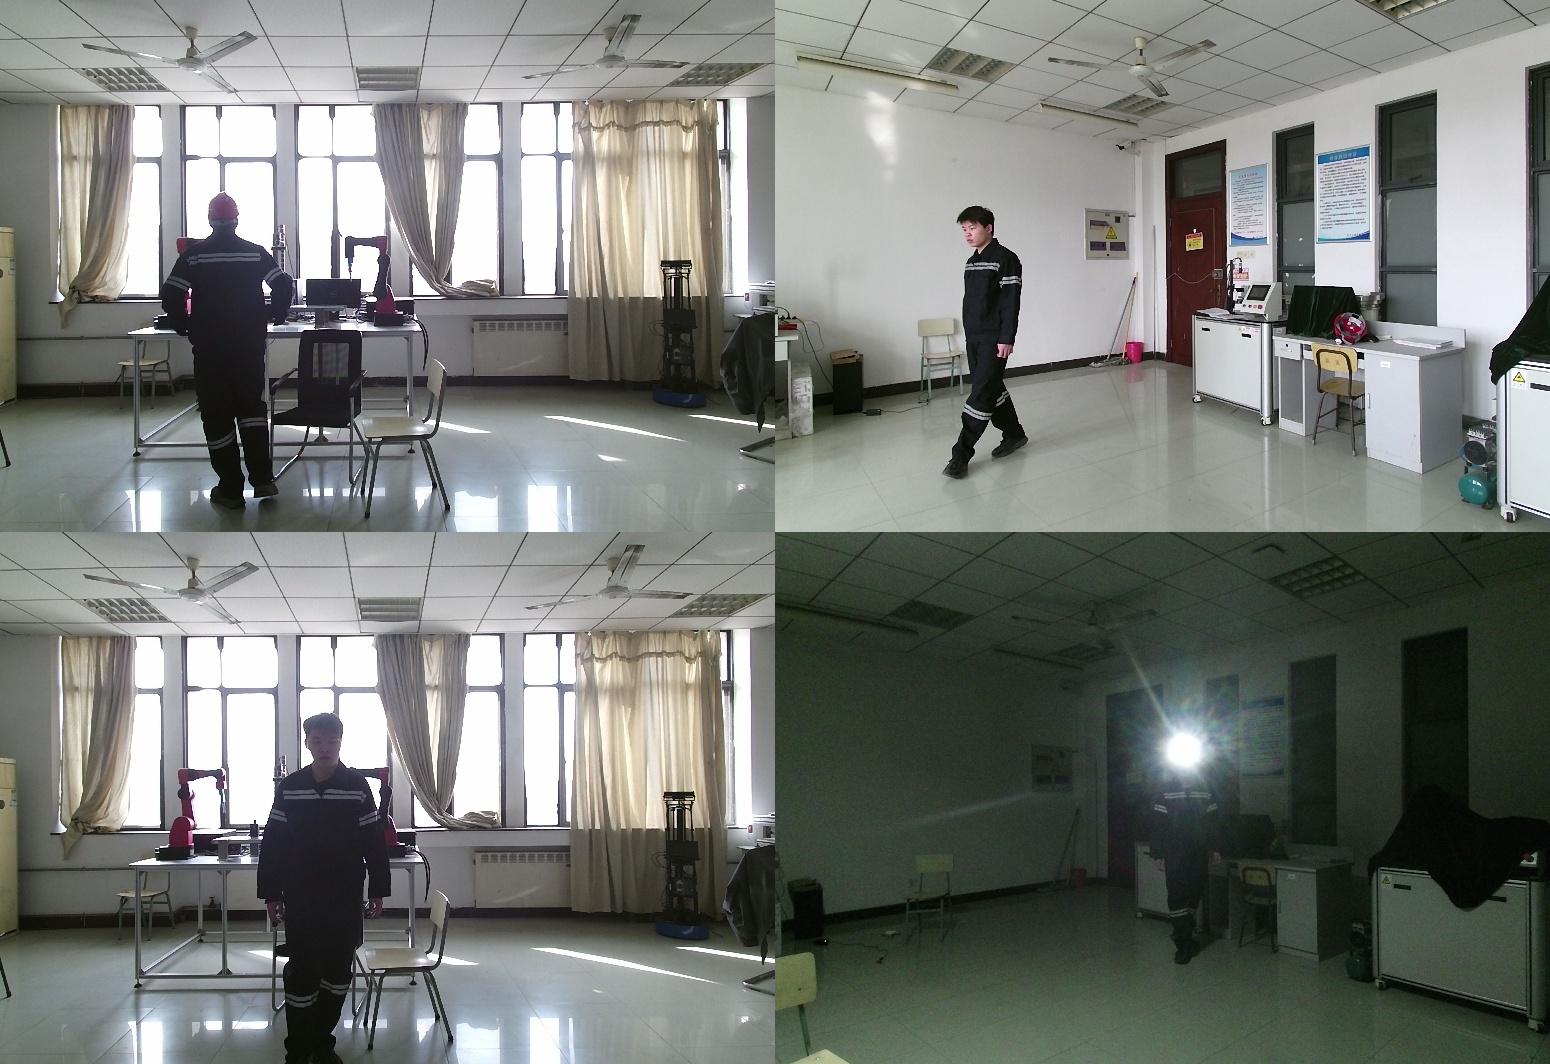person: (262, 712, 399, 1064), (163, 194, 298, 506), (943, 207, 1035, 477), (1148, 745, 1228, 963)
